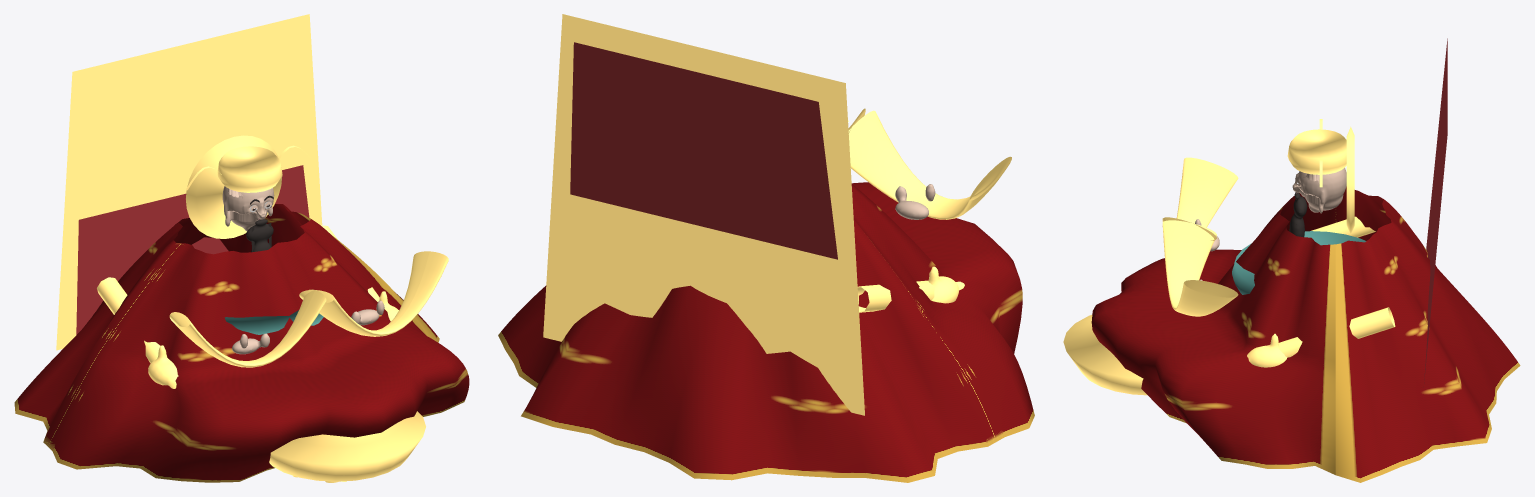
Rendered from caishen_god.glb.
3 renders of one model, left to right at view 1: azimuth 30°, elevation 25°; view 2: azimuth 150°, elevation 25°; view 3: azimuth 270°, elevation 25°, orthographic. The views are drawn at different scales.
Parts seen in each view (by area): view 1: GodRobe, ThroneFrame, ThroneBack, Basin, Halo, HeldSpawnR, Crown, HeldSpawnL, GodFace, Belt, Arm-1, Dragon-1 (+2 smaller); view 2: GodRobe, ThroneFrame, ThroneBack, HeldSpawnL, Arm-1, HandSpawnL, Dragon-1; view 3: GodRobe, HeldSpawnR, HeldSpawnL, Basin, ThroneBack, Crown, GodFace, Arm1, Belt, Halo, Dragon1, Arm-1 (+1 smaller).
Part boxes in pixels (box(x1,y1,x2,y2)): GodRobe: box(14, 204, 469, 482); ThroneFrame: box(56, 14, 322, 350); ThroneBack: box(76, 165, 309, 334); Basin: box(269, 411, 425, 481); Halo: box(186, 135, 282, 238); HeldSpawnR: box(299, 251, 448, 336); Crown: box(217, 146, 282, 192); HeldSpawnL: box(169, 289, 326, 367); GodFace: box(222, 186, 274, 231); Belt: box(224, 310, 323, 334); Arm-1: box(97, 277, 166, 363); Dragon-1: box(148, 345, 178, 388); GodRobe: box(498, 182, 1034, 482); ThroneFrame: box(543, 14, 864, 415); ThroneBack: box(570, 42, 837, 259); HeldSpawnL: box(848, 110, 1011, 219); Arm-1: box(857, 280, 934, 312); HandSpawnL: box(895, 184, 935, 219); Dragon-1: box(928, 266, 964, 303); GodRobe: box(1091, 186, 1520, 482); HeldSpawnR: box(1162, 220, 1238, 316); HeldSpawnL: box(1162, 157, 1238, 240); Basin: box(1063, 315, 1147, 395); ThroneBack: box(1423, 38, 1447, 387); Crown: box(1287, 129, 1346, 174); GodFace: box(1292, 167, 1346, 213); Arm1: box(1278, 307, 1395, 357); Belt: box(1232, 231, 1366, 294); Halo: box(1346, 126, 1354, 234); Dragon1: box(1247, 333, 1287, 367); Arm-1: box(1311, 216, 1375, 237).
Bounding box in the file's own units: 2.91 × 2.18 × 2.86.
14 materials, 1 textured.
